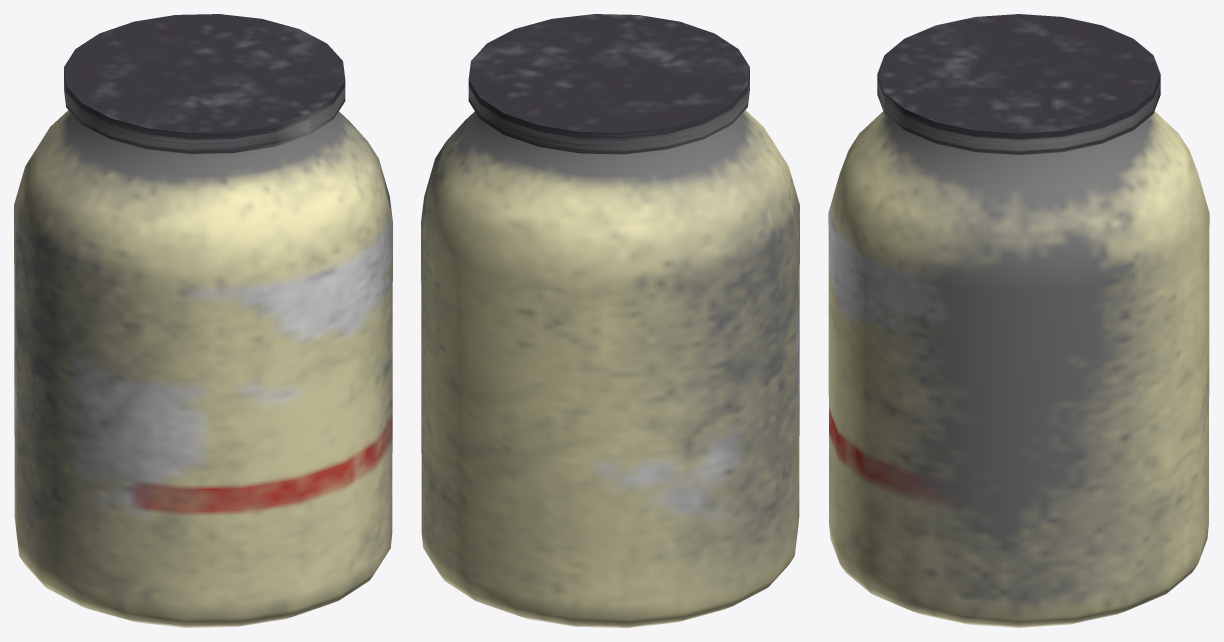
Rendered from SM_Bottle_5.fbx.
The picture shows the model from 3 angles, left to right: view 1: azimuth 30°, elevation 25°; view 2: azimuth 150°, elevation 25°; view 3: azimuth 270°, elevation 25°; orthographic projection.
Visible parts, largest first — view 1: SM_Bottle_5_LOD0; view 2: SM_Bottle_5_LOD0; view 3: SM_Bottle_5_LOD0.
Boxes of the visible parts, <box> form: SM_Bottle_5_LOD0: <box>14,14,392,627</box>; SM_Bottle_5_LOD0: <box>421,14,799,627</box>; SM_Bottle_5_LOD0: <box>828,14,1209,627</box>.
Size of the model in its own units: 4.89 by 4.89 by 6.85.
Materials: 1 (1 with a texture image).
